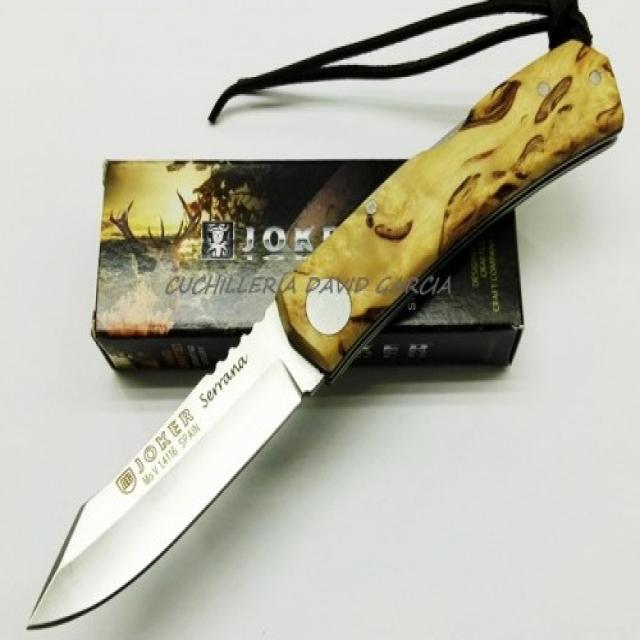knife: (25, 36, 627, 640)
